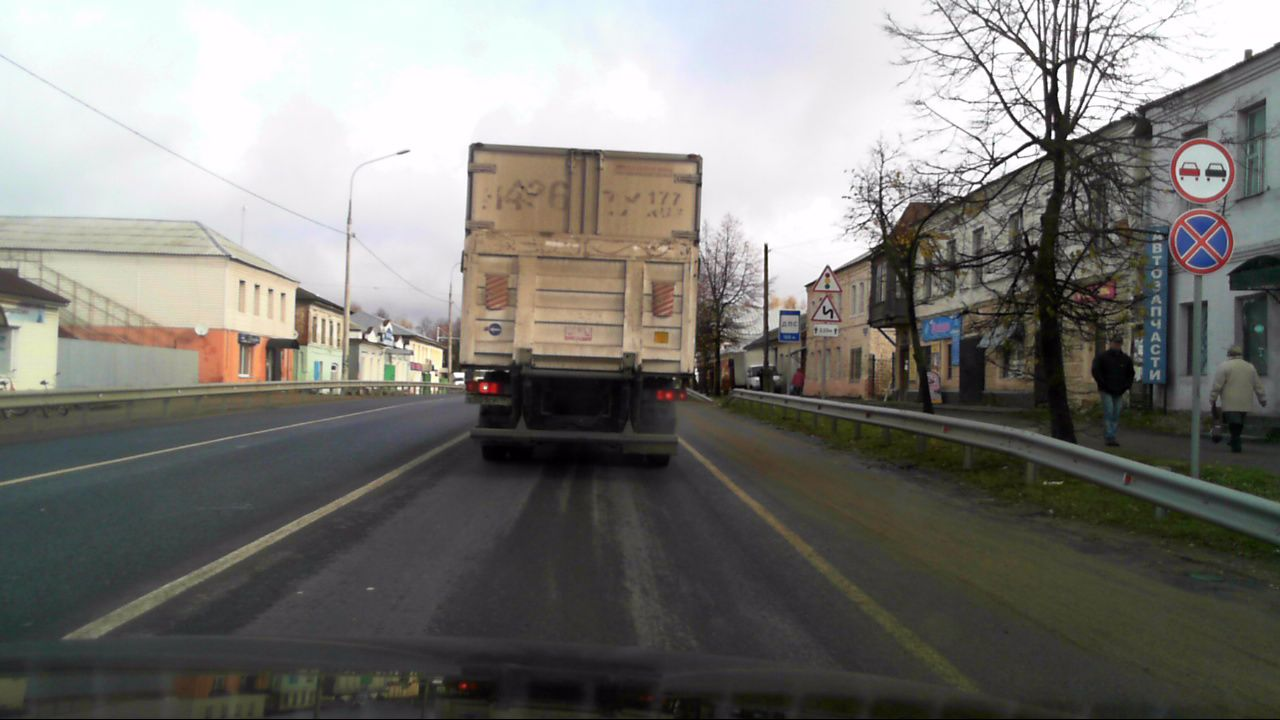No Parking: (1167, 206, 1237, 276)
